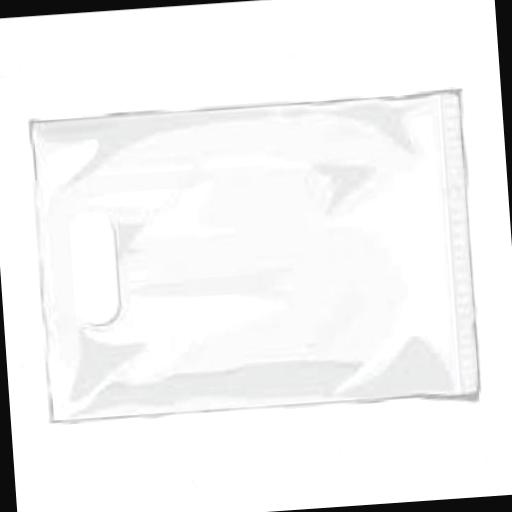plastic: (24, 86, 479, 428)
